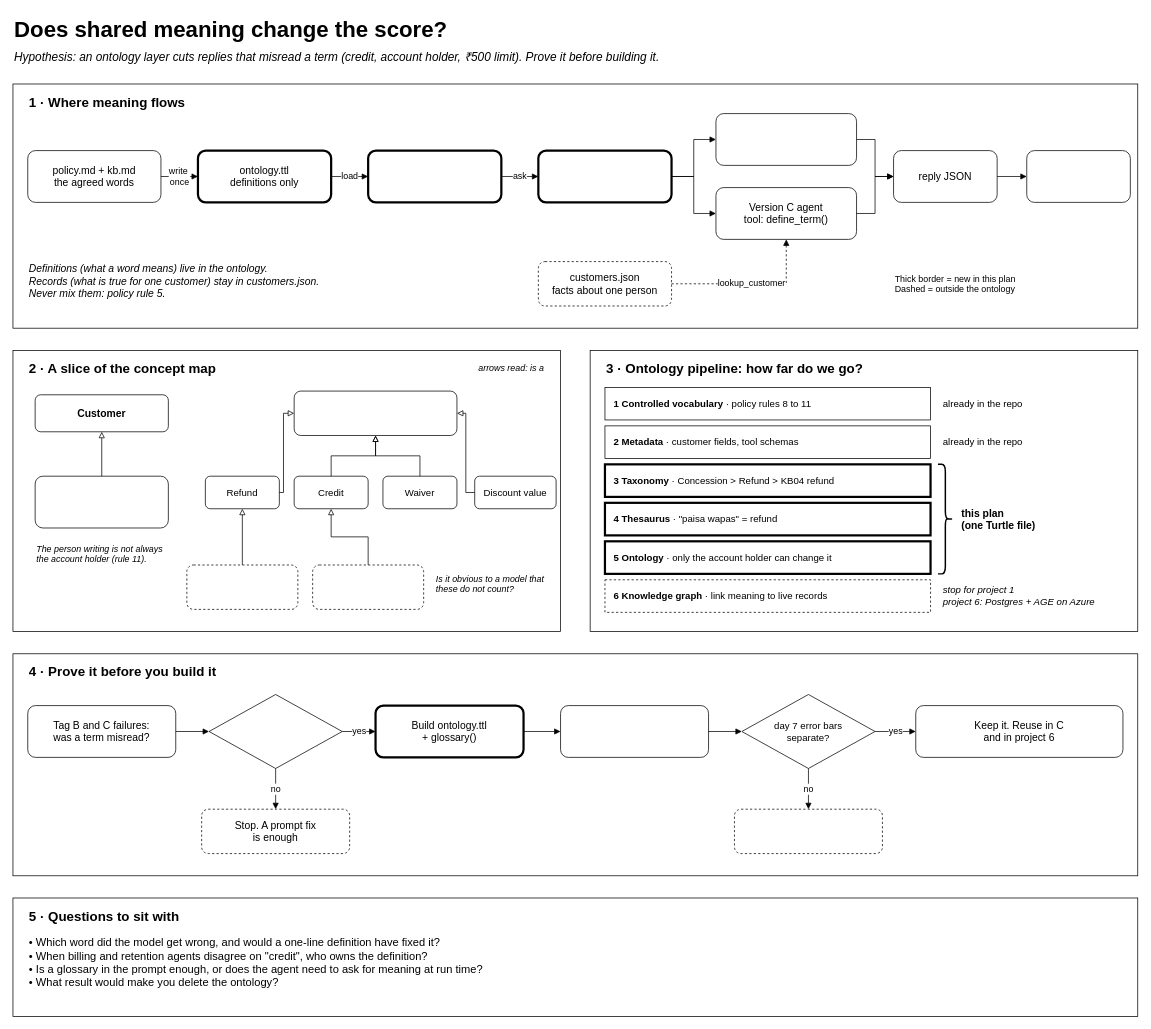
Some shapes in this 1151 by 1029 pixel diagram are drawn without their labels. Each missing label, with the box of its shape:
Account holder only one who can change the account: (34, 475, 168, 528)
Concession counts toward ₹500 per 30 days: (293, 390, 457, 435)
Double payment refund KB04 · counts: no: (186, 564, 298, 609)
Drop it. Cost without gain: (734, 808, 882, 854)
grader lab/evals.py: (1026, 150, 1130, 202)
Outage credit KB06 · counts: no: (312, 564, 424, 609)
pyoxigraph in-memory store: (367, 149, 502, 203)
Run B vs B + glossary same cases, same grader: (560, 705, 709, 757)
share above the threshold set first?: (208, 694, 342, 768)
SPARQL query glossary(): (537, 149, 672, 203)
Version B prompt + glossary: (715, 113, 857, 165)
